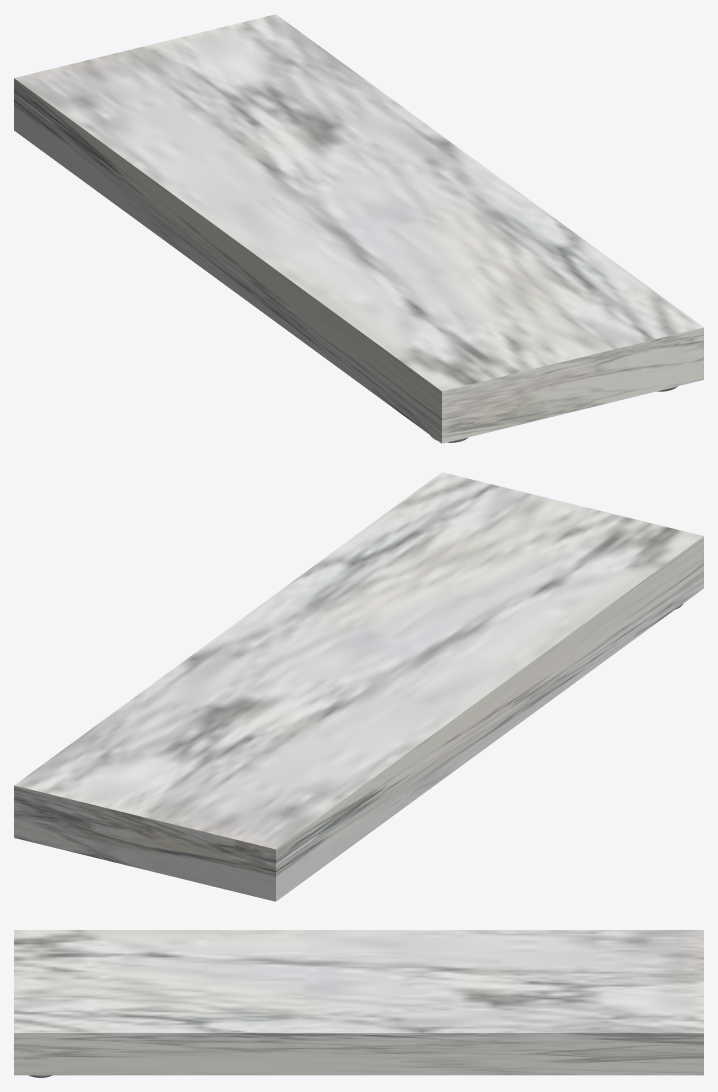
File: light.fbx
The picture shows the model from 3 angles, top to bottom: view 1: azimuth 30°, elevation 25°; view 2: azimuth 150°, elevation 25°; view 3: azimuth 270°, elevation 25°; orthographic projection. The views are drawn at different scales.
Parts seen in each view (by area): view 1: Cube; view 2: Cube; view 3: Cube.
Boxes of the visible parts, x1=… form: Cube: x1=14, y1=14, x2=703, y2=443; Cube: x1=14, y1=472, x2=703, y2=901; Cube: x1=14, y1=930, x2=703, y2=1075.
Bounding box in the file's own units: 208 × 46.54 × 587.
